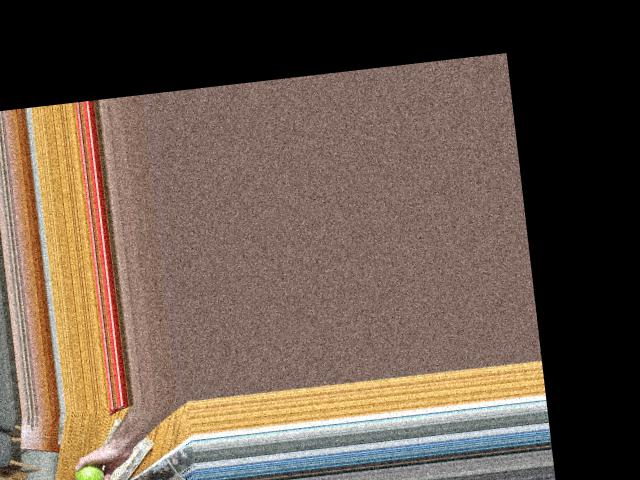apple: (72, 458, 108, 480)
